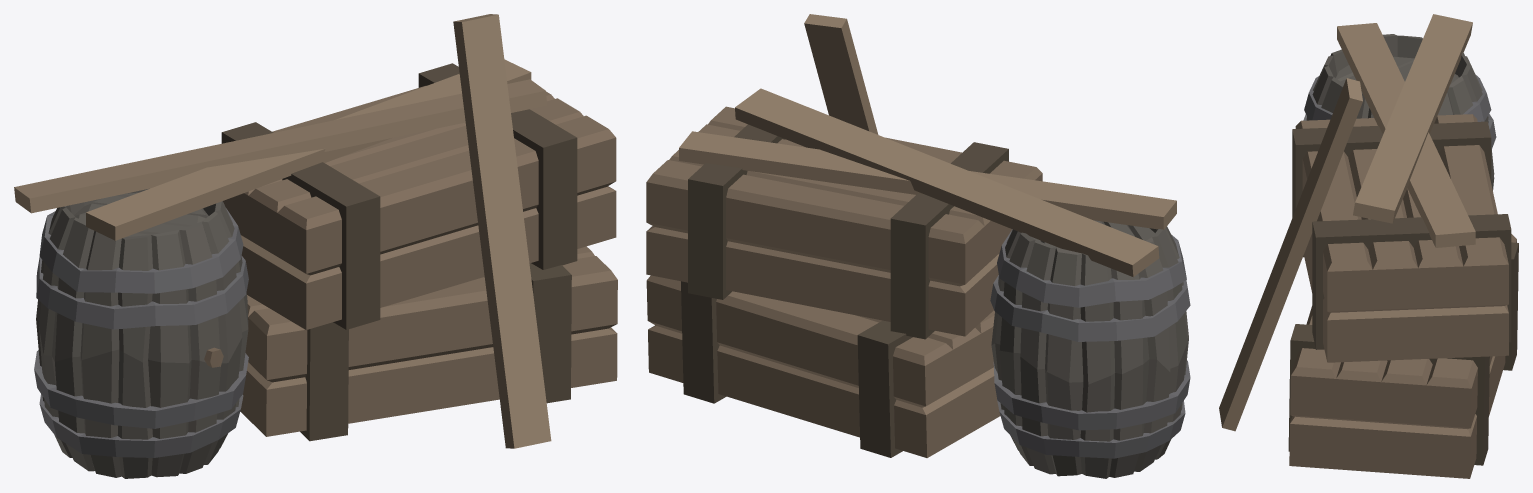
The model's file is SM_Prop_Stack_01.fbx.
The picture shows the model from 3 angles, left to right: view 1: azimuth 30°, elevation 25°; view 2: azimuth 150°, elevation 25°; view 3: azimuth 270°, elevation 25°; orthographic projection. The views are drawn at different scales.
Parts seen in each view (by area): view 1: SM_Prop_Stack_01; view 2: SM_Prop_Stack_01; view 3: SM_Prop_Stack_01.
Boxes of the visible parts, box(x1,y1,x2,y2) form: SM_Prop_Stack_01: box(14, 14, 617, 478); SM_Prop_Stack_01: box(646, 14, 1190, 478); SM_Prop_Stack_01: box(1219, 14, 1518, 478).
Size of the model in its own units: 1.65 by 1.12 by 0.8797.
